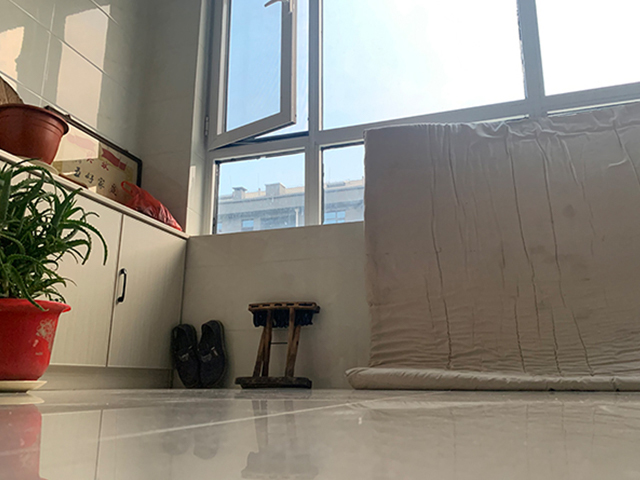cabinet: (55, 174, 187, 387)
stool: (233, 301, 320, 390)
